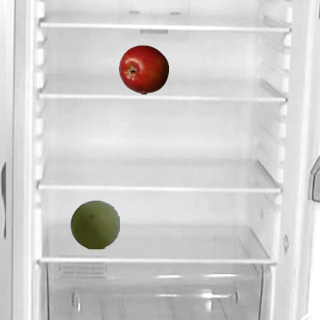Apple Braeburn: (118, 44, 168, 94)
Grape White 4: (69, 199, 119, 249)
